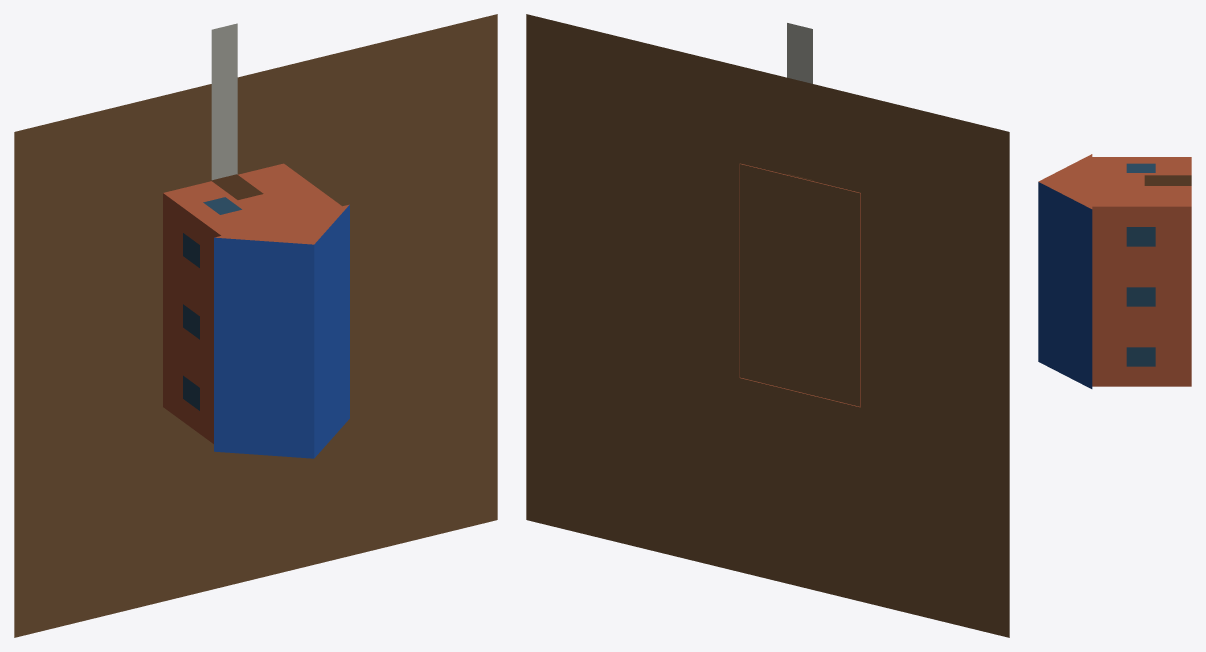
3 renders of one model, left to right at view 1: azimuth 30°, elevation 25°; view 2: azimuth 150°, elevation 25°; view 3: azimuth 270°, elevation 25°, orthographic. The views are drawn at different scales.
Visible parts, largest first — view 1: object_hq_tiny; view 2: object_hq_tiny; view 3: object_hq_tiny.
Part boxes in pixels (x1,y1,x2,y2): object_hq_tiny: [14, 14, 497, 637]; object_hq_tiny: [526, 14, 1009, 637]; object_hq_tiny: [1038, 154, 1191, 388].
Size of the model in its own units: 26 by 28.8 by 8.5.
